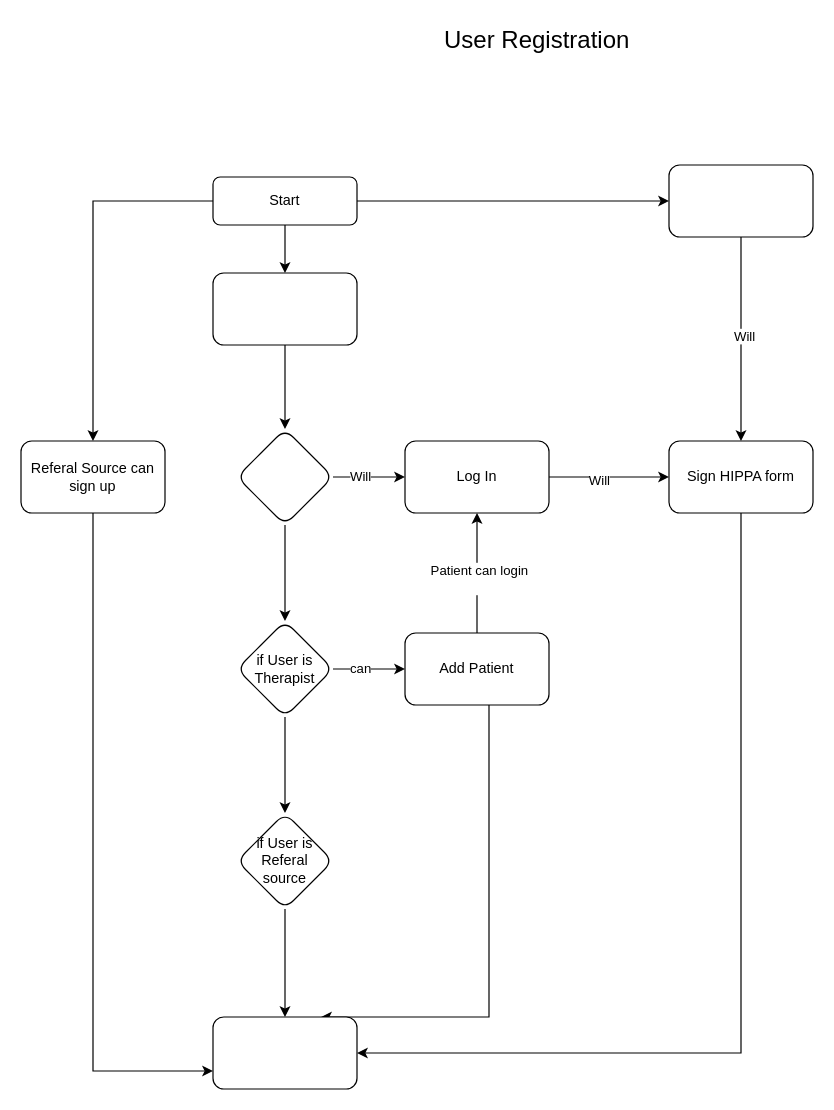
Some shapes in this 834 by 1110 pixel diagram are drawn without their labels. Each missing label, with the centre of its shape:
End: the point at 284,1052
if User is Patient: the point at 284,476
Patient Sign UP: the point at 740,200
Super Admin Adds User: the point at 284,308
